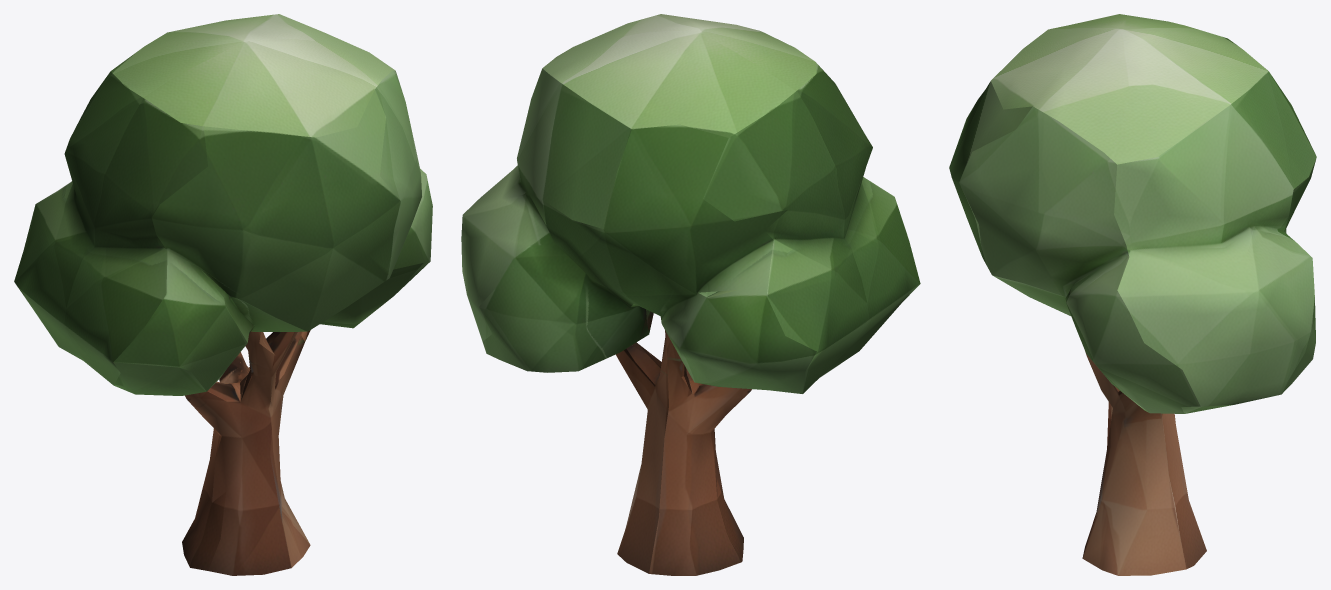
Rendered from normalTree0.fbx.
The picture shows the model from 3 angles, left to right: view 1: azimuth 30°, elevation 25°; view 2: azimuth 150°, elevation 25°; view 3: azimuth 270°, elevation 25°; orthographic projection.
Parts seen in each view (by area): view 1: input; view 2: input; view 3: input.
Boxes of the visible parts, box(x1,y1,x2,y2) form: input: box(14, 14, 432, 575); input: box(461, 14, 920, 575); input: box(949, 14, 1316, 575).
Size of the model in its own units: 73.97 by 99.53 by 63.93.
1 material, 1 textured.
